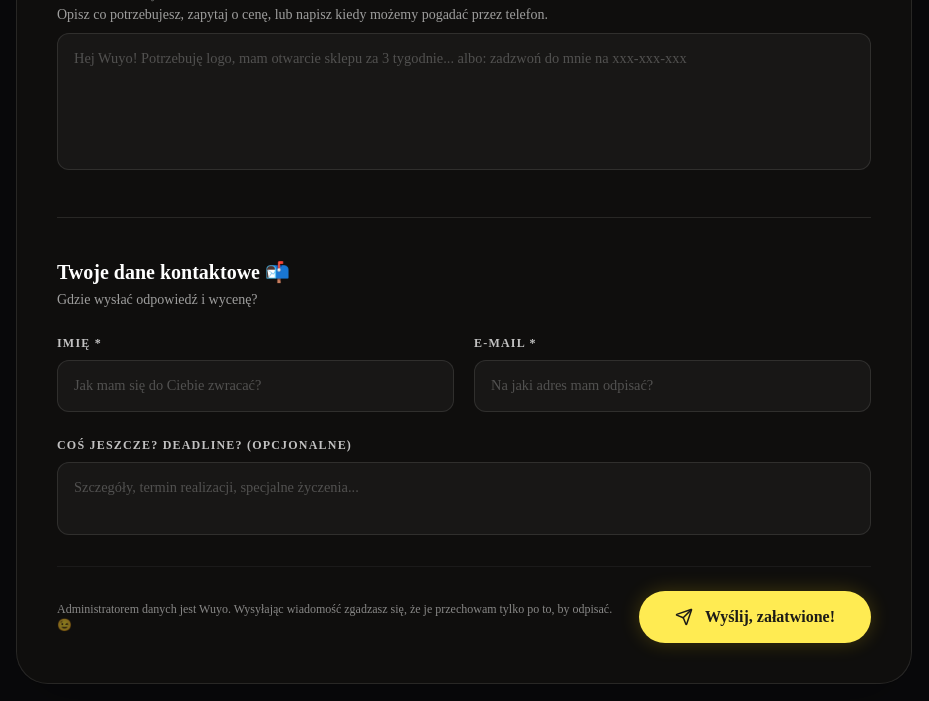
ContactBrief › TC-8 przycisk jest disabled i pokazuje 'Wysyłam...' podczas wysyłania
This screenshot has width=929, height=701.
(page scrolled)
Type "Kasia" into the field labelled "Imię *" at (256,386), box [57,360,454,412]
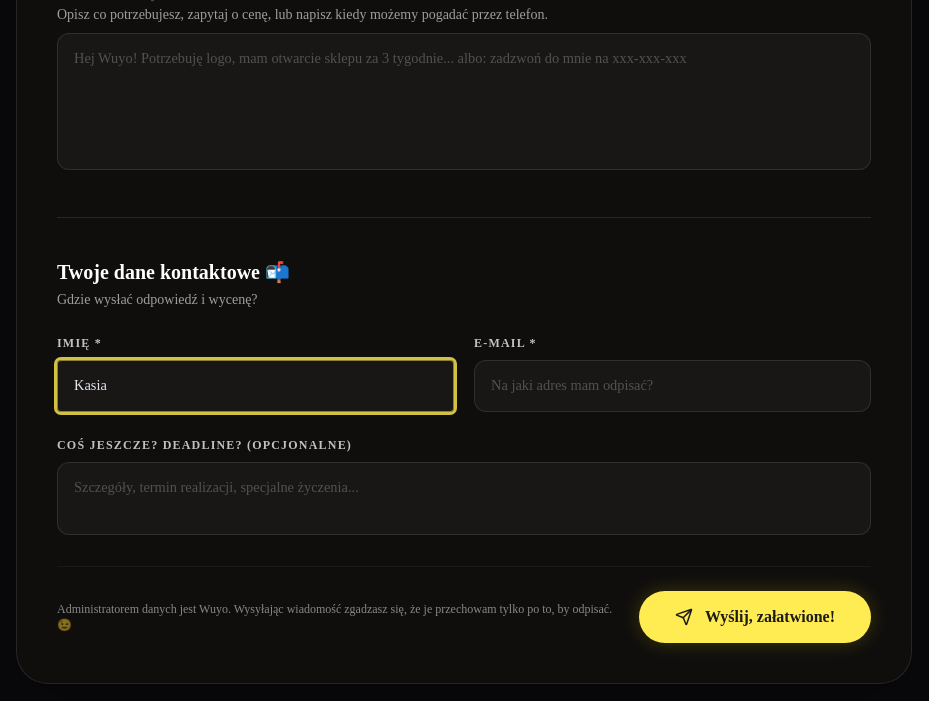
Type "kasia@test.pl" into the field labelled "E-mail *" at (672,386), box [474,360,871,412]
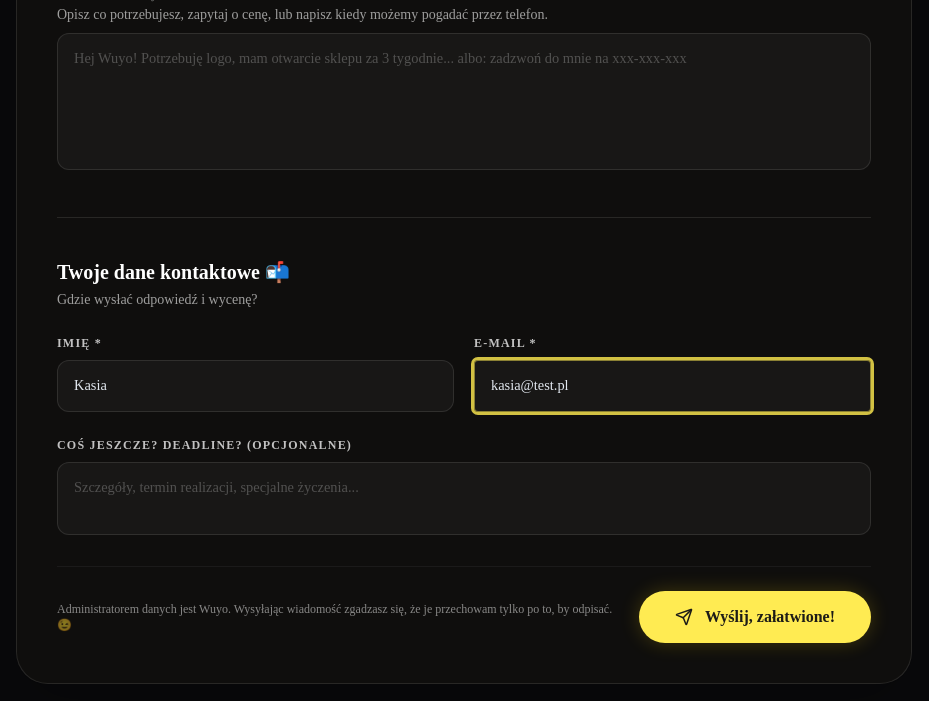
Type "Pytanie o cennik" into the text box with placeholder "Hej Wuyo" at (464,101), box [57,32,871,170]
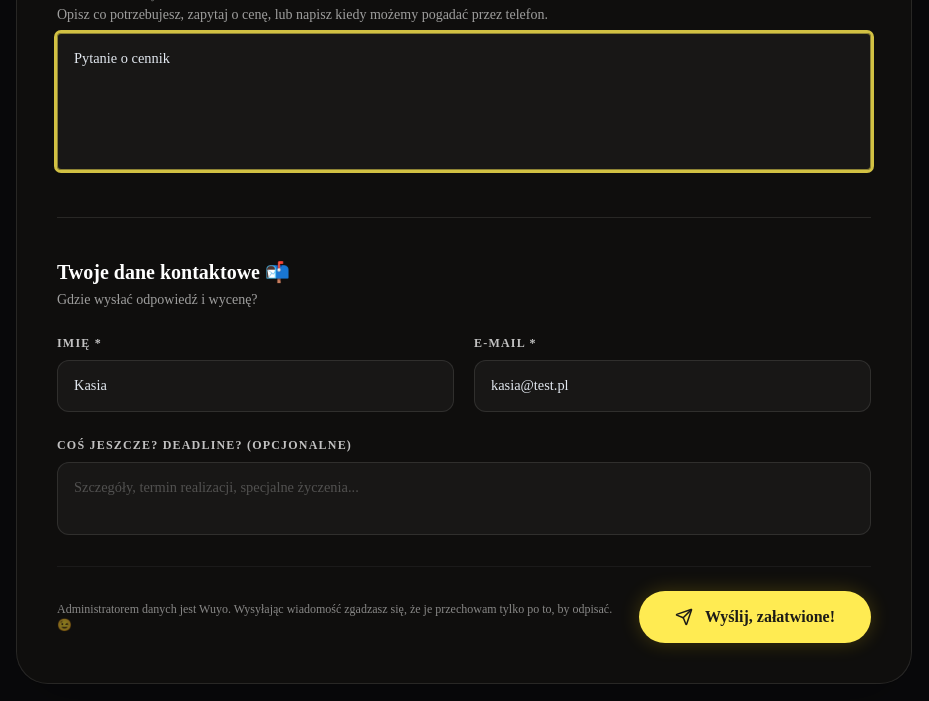
Click the button "Wyślij, załatwione!" at (755,617), box [639,591,871,643]
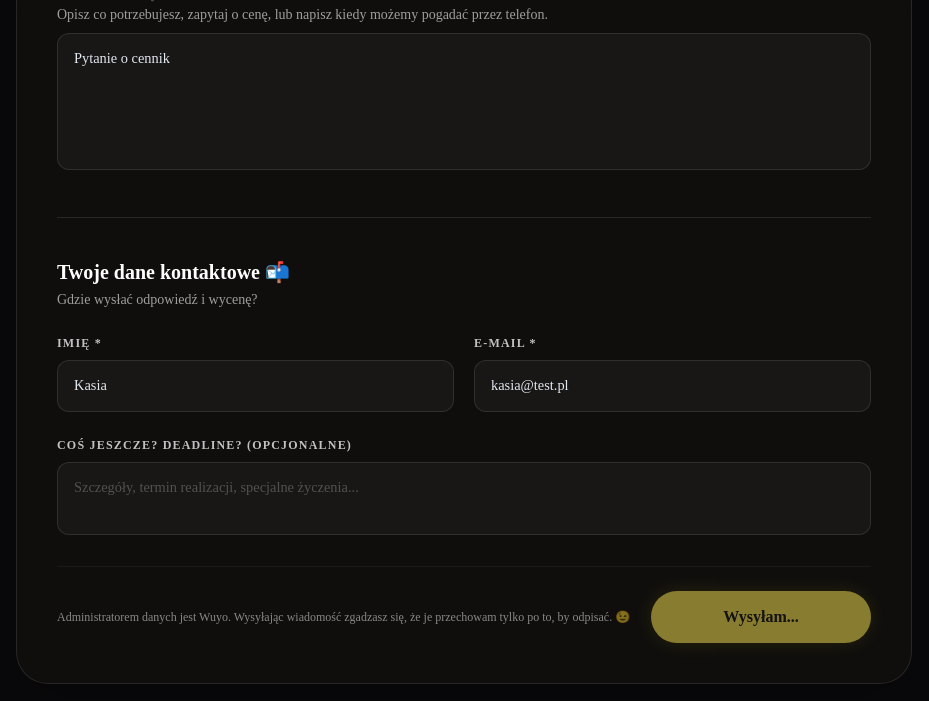
Expected: the button "Wysyłam..." is disabled, [651,591,871,643]
